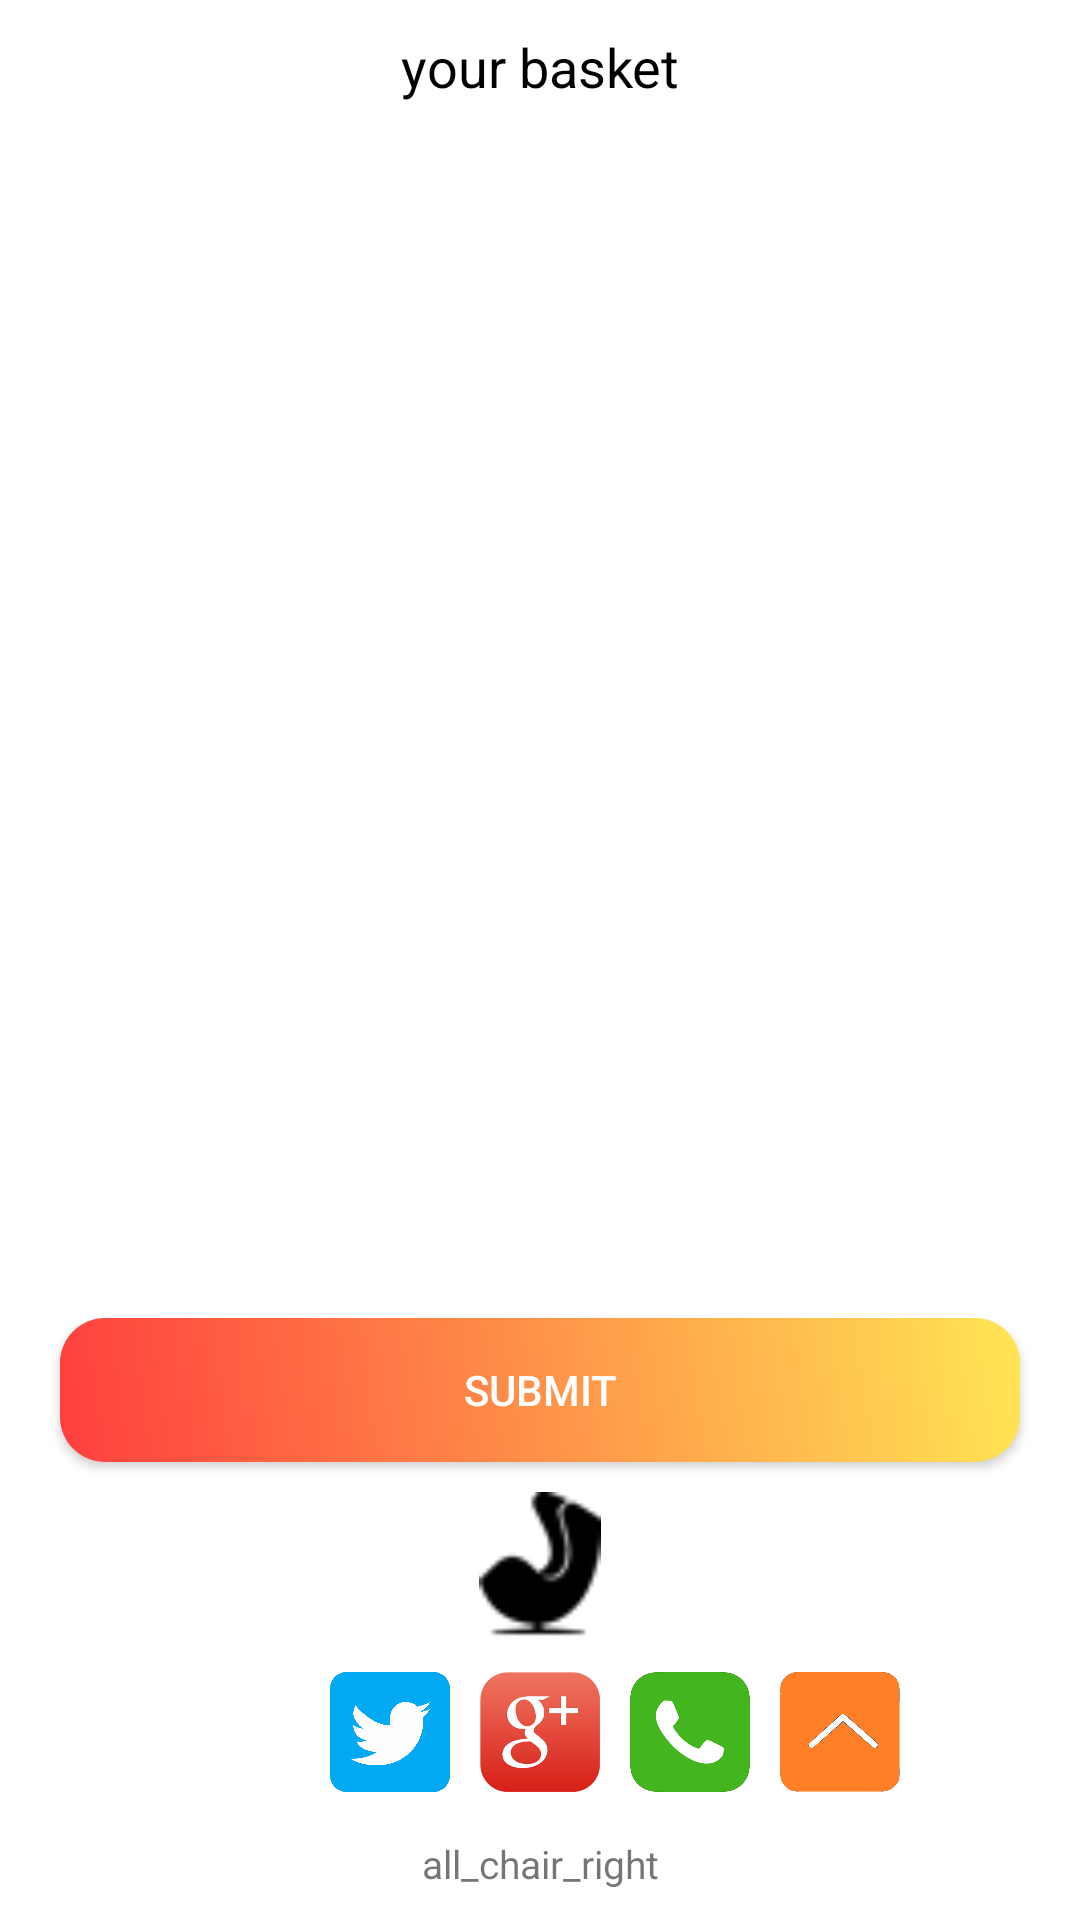

Icons on this 1080 x 1920 Android screen, each with its box as (x1, y1, x2, y2):
call: (630, 1672, 750, 1792)
